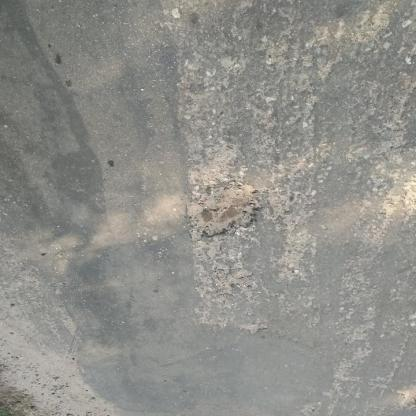pothole: (185, 178, 270, 245)
